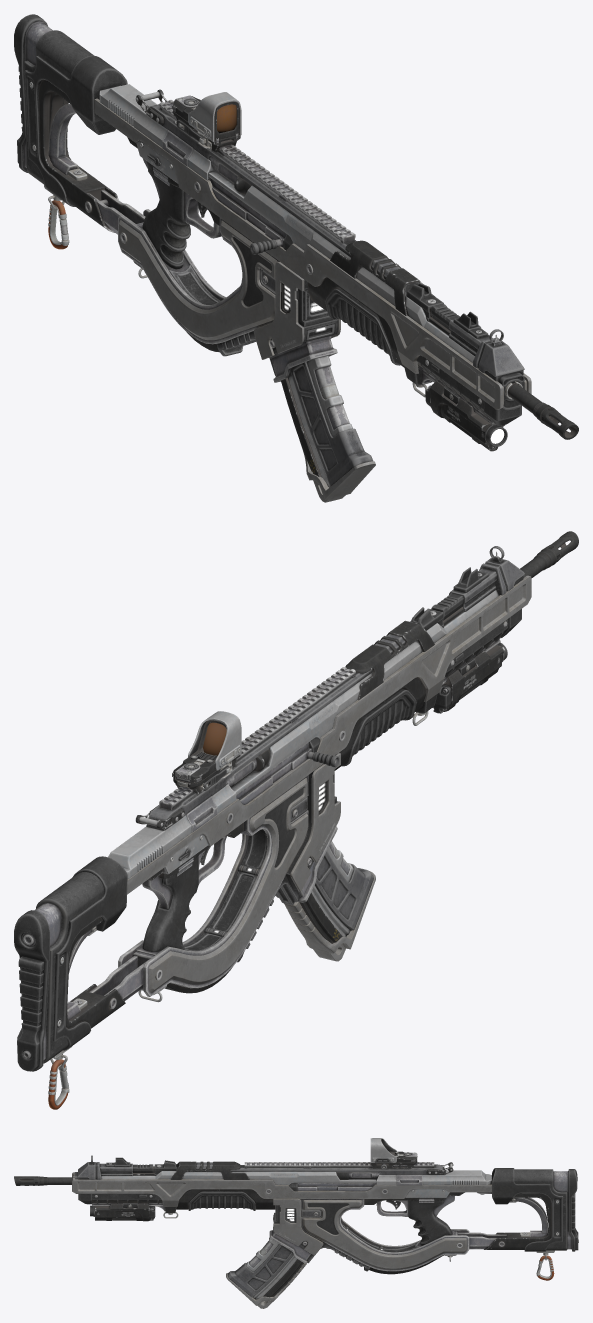
The model's file is arm1.glb.
3 views of the same model, one above another, from view 1: azimuth 30°, elevation 25°; view 2: azimuth 150°, elevation 25°; view 3: azimuth 270°, elevation 25° (orthographic). The views are drawn at different scales.
Parts seen in each view (by area): view 1: BodyMain_low, HandleCap_low, CrossOver_low, BodySecond_low, ChargerSmall_low, CrossInside_low, HandleMain_low, ChargerTop_low, BodyTop_low, BodySlider_low, BodyBack_low, HandleSnake_low (+24 smaller); view 2: BodyMain_low, HandleCap_low, CrossOver_low, BodySecond_low, HandleSnake_low, CrossSecond_low, CrossMain_low, BodyTop_low, HandleMain_low, BodyBack_low, ChargerSmall_low, ChargerTop_low (+18 smaller); view 3: BodyMain_low, HandleCap_low, CrossOver_low, BodySecond_low, HandleSnake_low, ChargerSmall_low, BodyTop_low, ChargerTop_low, HandleMain_low, CrossSecond_low, BodyBack_low, CanonHandle_low (+25 smaller).
Part boxes in pixels (left/top/right/bottom): BodyMain_low: left=94, top=98, right=531, bottom=409; HandleCap_low: left=119, top=220, right=277, bottom=340; CrossOver_low: left=24, top=55, right=127, bottom=206; BodySecond_low: left=208, top=170, right=474, bottom=362; ChargerSmall_low: left=290, top=361, right=373, bottom=486; CrossInside_low: left=39, top=79, right=118, bottom=232; HandleMain_low: left=142, top=166, right=198, bottom=269; ChargerTop_low: left=253, top=261, right=340, bottom=359; BodyTop_low: left=146, top=104, right=419, bottom=296; BodySlider_low: left=159, top=100, right=355, bottom=243; BodyBack_low: left=99, top=84, right=215, bottom=180; HandleSnake_low: left=118, top=209, right=279, bottom=344; BodyMain_low: left=127, top=575, right=531, bottom=894; HandleCap_low: left=148, top=778, right=308, bottom=992; CrossOver_low: left=53, top=856, right=127, bottom=1050; BodySecond_low: left=231, top=590, right=498, bottom=794; HandleSnake_low: left=118, top=775, right=308, bottom=996; CrossSecond_low: left=36, top=872, right=104, bottom=1063; CrossMain_low: left=14, top=903, right=61, bottom=1071; BodyTop_low: left=146, top=634, right=405, bottom=830; HandleMain_low: left=142, top=856, right=198, bottom=951; BodyBack_low: left=108, top=784, right=236, bottom=878; ChargerSmall_low: left=315, top=851, right=373, bottom=930; ChargerTop_low: left=290, top=753, right=340, bottom=891; BodyMain_low: left=72, top=1172, right=491, bottom=1206; HandleCap_low: left=302, top=1200, right=467, bottom=1269; CrossOver_low: left=492, top=1168, right=562, bottom=1251; BodySecond_low: left=101, top=1167, right=376, bottom=1185; HandleSnake_low: left=300, top=1199, right=469, bottom=1271; ChargerSmall_low: left=227, top=1244, right=293, bottom=1297; BodyTop_low: left=177, top=1162, right=445, bottom=1174; ChargerTop_low: left=273, top=1198, right=323, bottom=1255; HandleMain_low: left=408, top=1200, right=452, bottom=1245; CrossSecond_low: left=514, top=1169, right=567, bottom=1250; BodyBack_low: left=376, top=1170, right=491, bottom=1184; CanonHandle_low: left=188, top=1191, right=255, bottom=1210.
Bounding box in the file's own units: 0.0591 × 0.2955 × 0.9057.
Materials: 3 (3 with a texture image).
